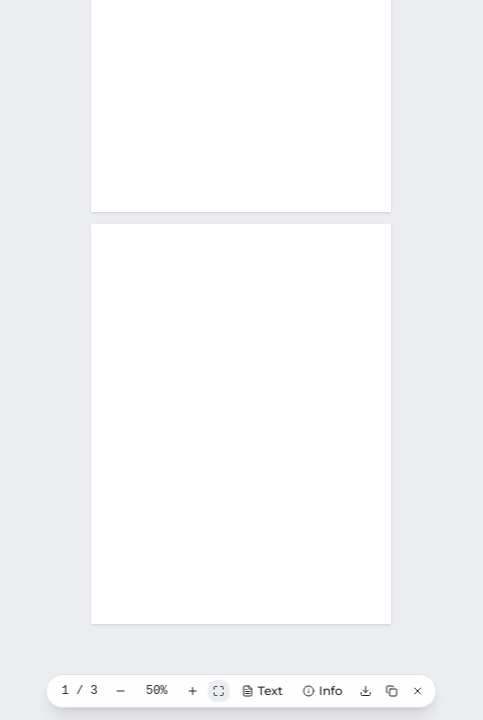
Test: file viewer: pdf › zoom out, zoom in and fit width change the percent and redraw at the new scale
(page scrolled)
Click the button named "Zoom in".
click(193, 691)  # box [181,679,205,703]
(page scrolled)
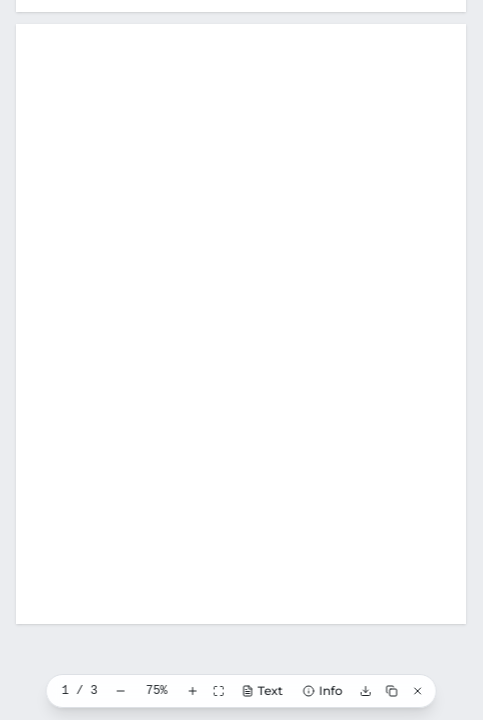
Now the text with test id "pdf-zoom" reads "75%", box [146,684,167,698]
Click the button named "Zoom out".
click(121, 691)  # box [109,679,133,703]
(page scrolled)
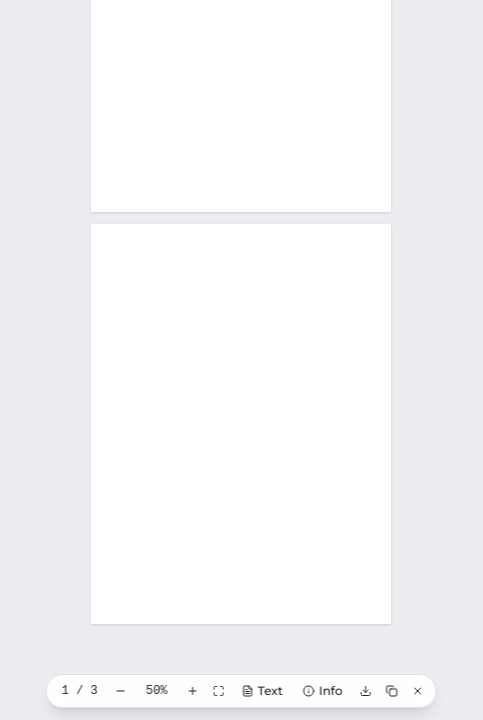
Click the button named "Zoom out".
click(121, 691)  # box [109,679,133,703]
(page scrolled)
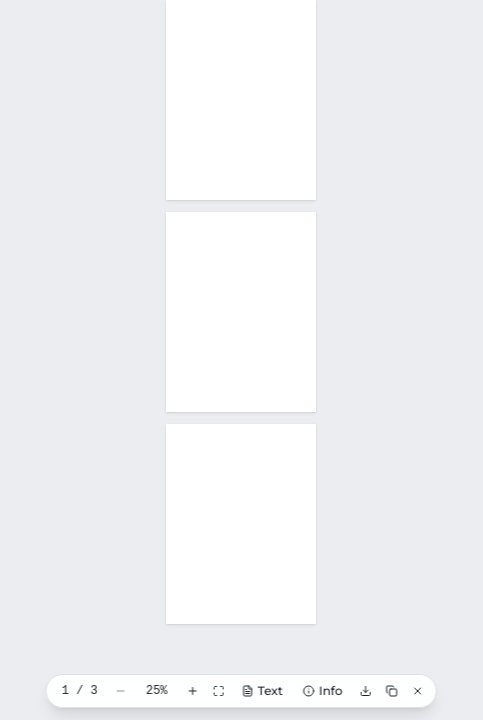
Now the text with test id "pdf-zoom" reads "25%", box [146,684,167,698]
Click the button named "Fit width".
click(219, 691)  # box [207,679,231,703]
(page scrolled)
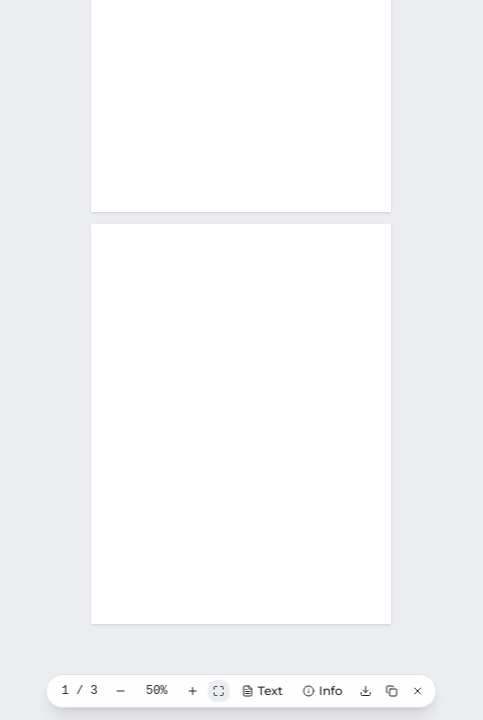
Now the text with test id "pdf-zoom" reads "50%", box [146,684,167,698]
